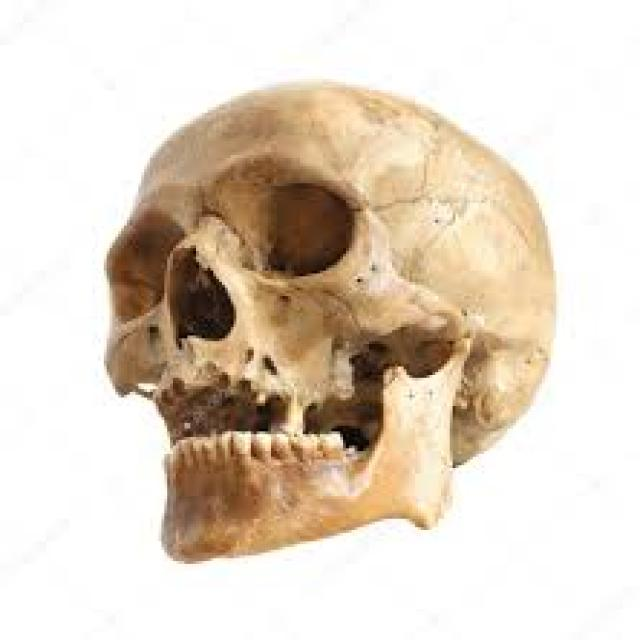skull: (93, 72, 568, 586)
